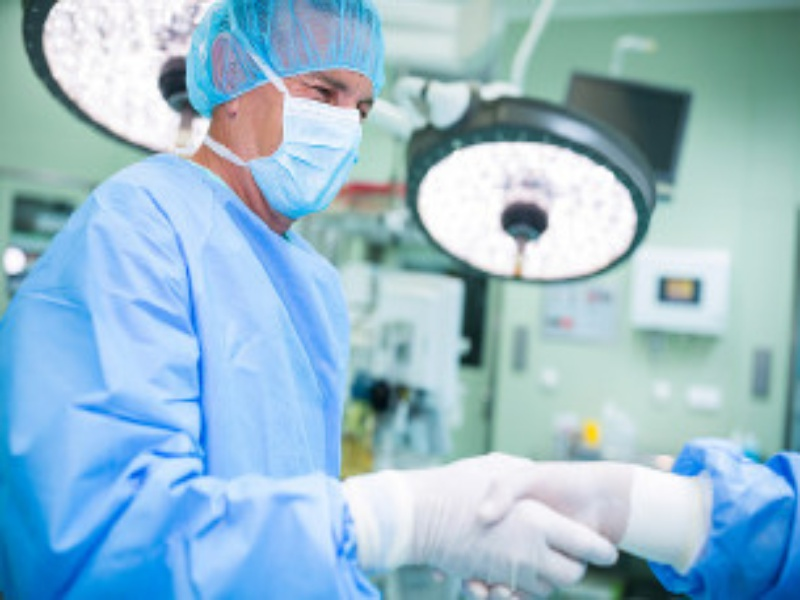mask: (184, 1, 376, 227)
